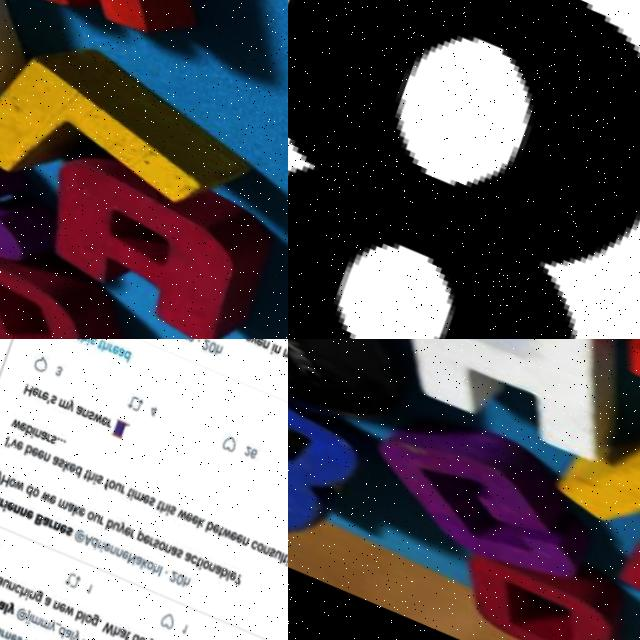0: (165, 575, 177, 589), (203, 344, 215, 357)
1: (171, 625, 180, 637), (76, 585, 84, 595)
2: (159, 573, 171, 586), (197, 341, 208, 354), (237, 448, 247, 460)
3: (49, 366, 61, 379)
4: (144, 408, 154, 420)
6: (243, 451, 253, 462)
8: (288, 0, 640, 339)
B: (288, 364, 380, 566)
G: (330, 397, 627, 608), (0, 75, 67, 283)
H: (333, 339, 640, 482)
L: (0, 17, 263, 264), (543, 378, 640, 605)
O: (424, 540, 630, 640), (0, 244, 130, 339)
